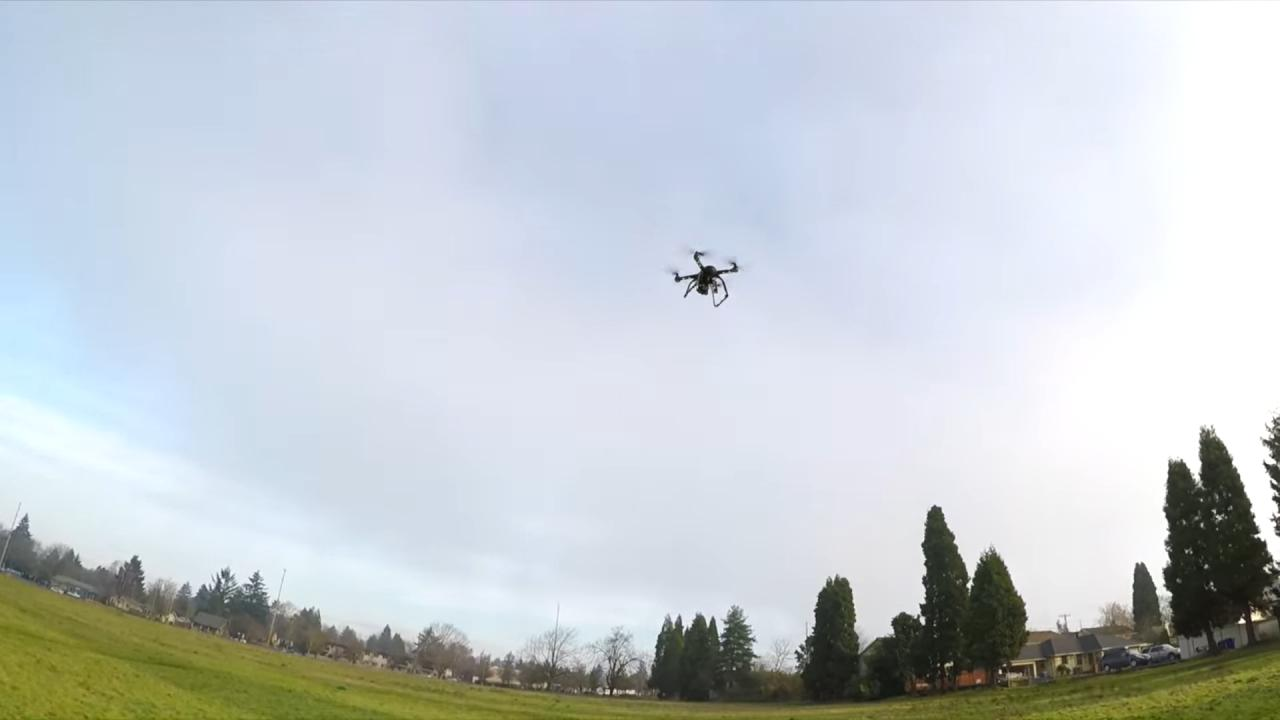Drone: (658, 237, 752, 315)
